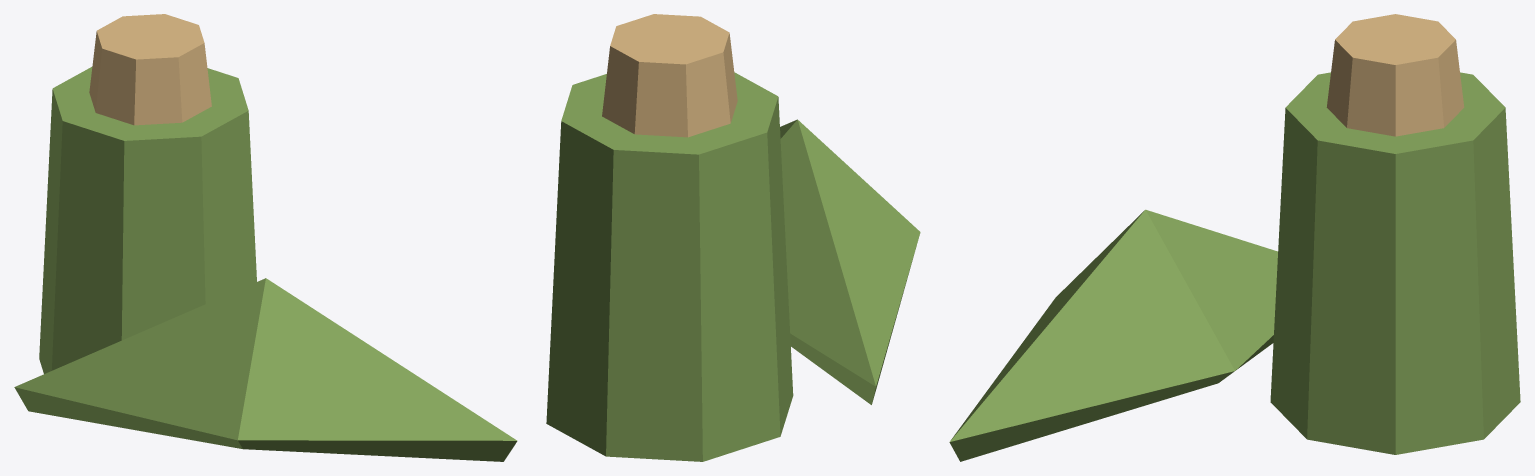
Rendered from CC_MedicineHerbal.fbx.
The picture shows the model from 3 angles, left to right: view 1: azimuth 30°, elevation 25°; view 2: azimuth 150°, elevation 25°; view 3: azimuth 270°, elevation 25°; orthographic projection. The views are drawn at different scales.
Visible parts, largest first — view 1: Herb.001, Medicine jar.008, Cork.008; view 2: Medicine jar.008, Herb.001, Cork.008; view 3: Medicine jar.008, Herb.001, Cork.008.
Part boxes in pixels (x1=…): Herb.001: x1=14, y1=278, x2=517, y2=461; Medicine jar.008: x1=39, y1=67, x2=256, y2=373; Cork.008: x1=89, y1=14, x2=211, y2=125; Medicine jar.008: x1=546, y1=72, x2=793, y2=461; Herb.001: x1=780, y1=119, x2=920, y2=404; Cork.008: x1=602, y1=14, x2=737, y2=137; Medicine jar.008: x1=1270, y1=72, x2=1520, y2=454; Herb.001: x1=949, y1=209, x2=1277, y2=461; Cork.008: x1=1326, y1=14, x2=1464, y2=136.
Size of the model in its own units: 0.3228 by 0.32 by 0.4568.
